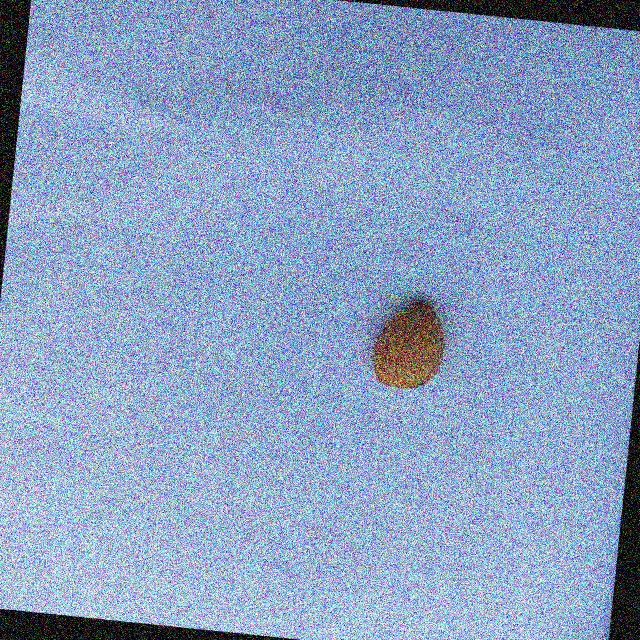grade2: (363, 292, 452, 396)
